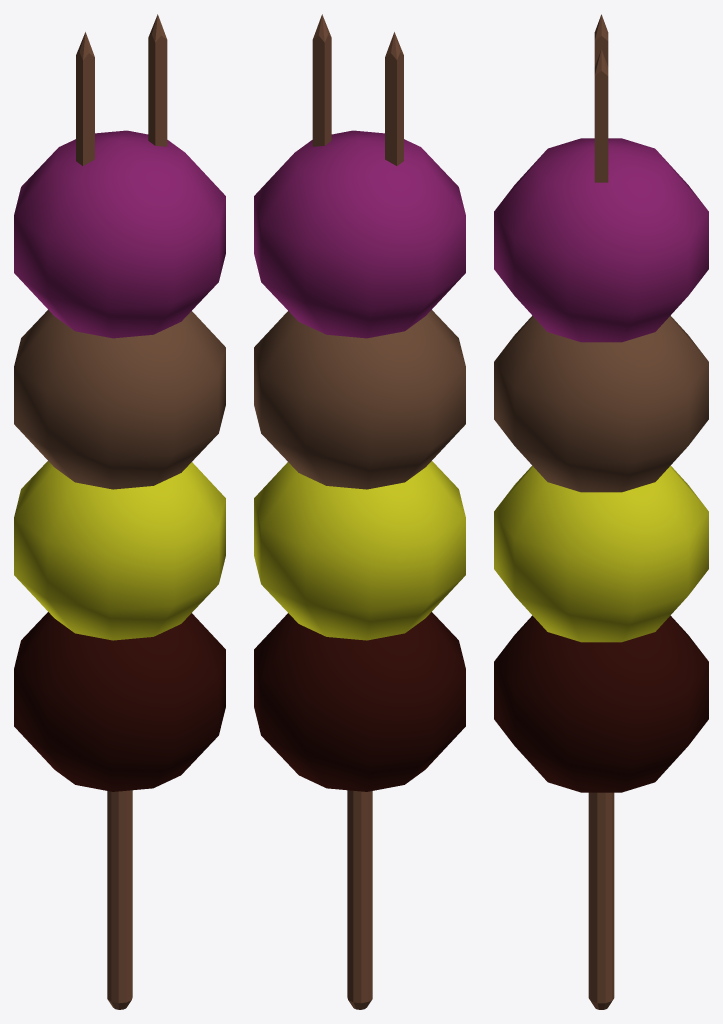
File: AttackSpeedItem.fbx
3 renders of one model, left to right at view 1: azimuth 30°, elevation 25°; view 2: azimuth 150°, elevation 25°; view 3: azimuth 270°, elevation 25°, orthographic.
Visible parts, largest first — view 1: Cube.003; view 2: Cube.003; view 3: Cube.003.
Part boxes in pixels (x1,y1,x2,y2): Cube.003: [14, 14, 225, 1009]; Cube.003: [254, 14, 465, 1009]; Cube.003: [494, 14, 708, 1009].
Size of the model in its own units: 83.55 by 440 by 87.85.
